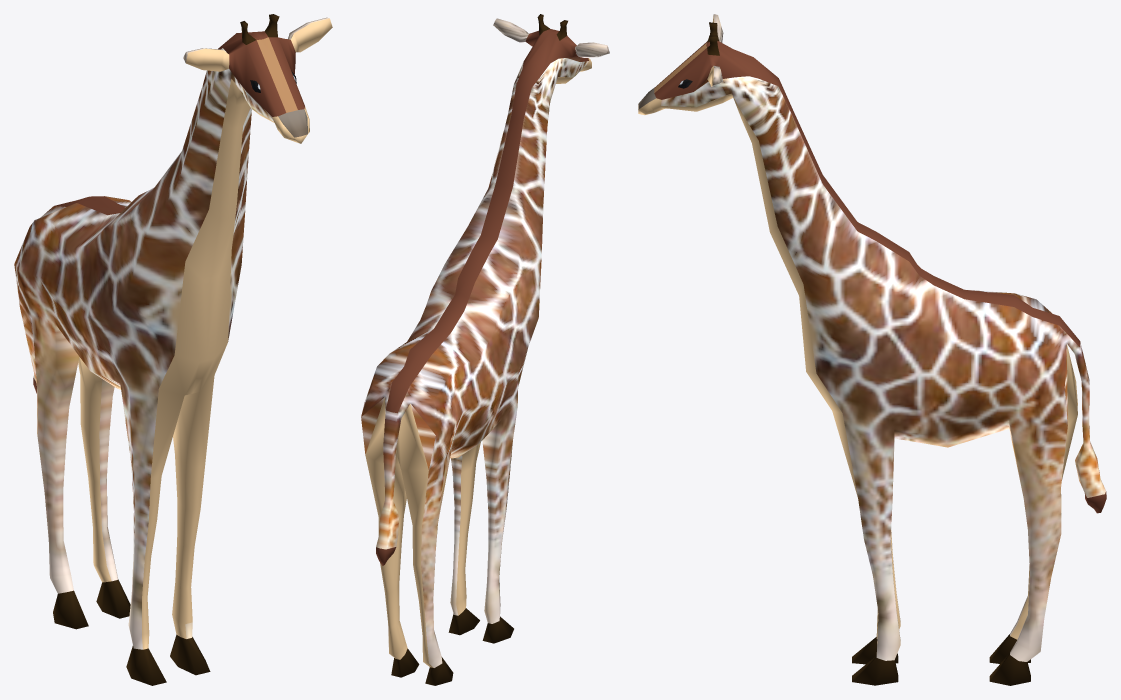
Rendered from Girafe.glb.
The picture shows the model from 3 angles, left to right: view 1: azimuth 30°, elevation 25°; view 2: azimuth 150°, elevation 25°; view 3: azimuth 270°, elevation 25°; orthographic projection. The views are drawn at different scales.
Parts seen in each view (by area): view 1: Girafe; view 2: Girafe; view 3: Girafe.
Part boxes in pixels (box(x1,y1,x2,y2)): Girafe: box(14, 14, 332, 685); Girafe: box(361, 14, 609, 685); Girafe: box(638, 14, 1106, 685).
Size of what is drawn, in the model's own units: 0.691 by 3.22 by 2.14.
1 material, 1 textured.
